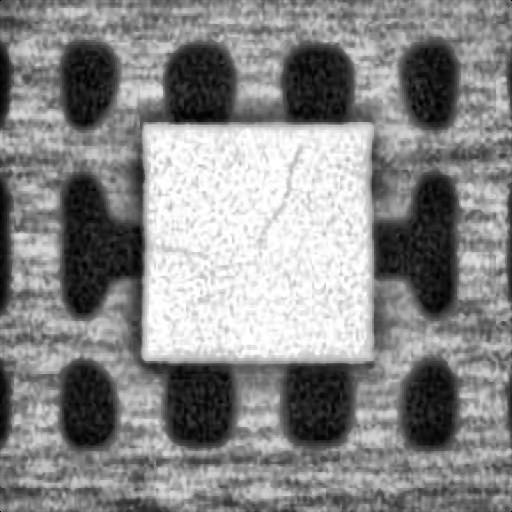DIE_CRACK: (248, 136, 305, 250)
